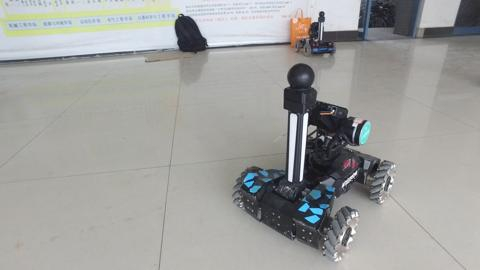bag: (172, 12, 210, 55), (288, 6, 313, 49)
chariot: (230, 62, 397, 263), (292, 10, 337, 57)
